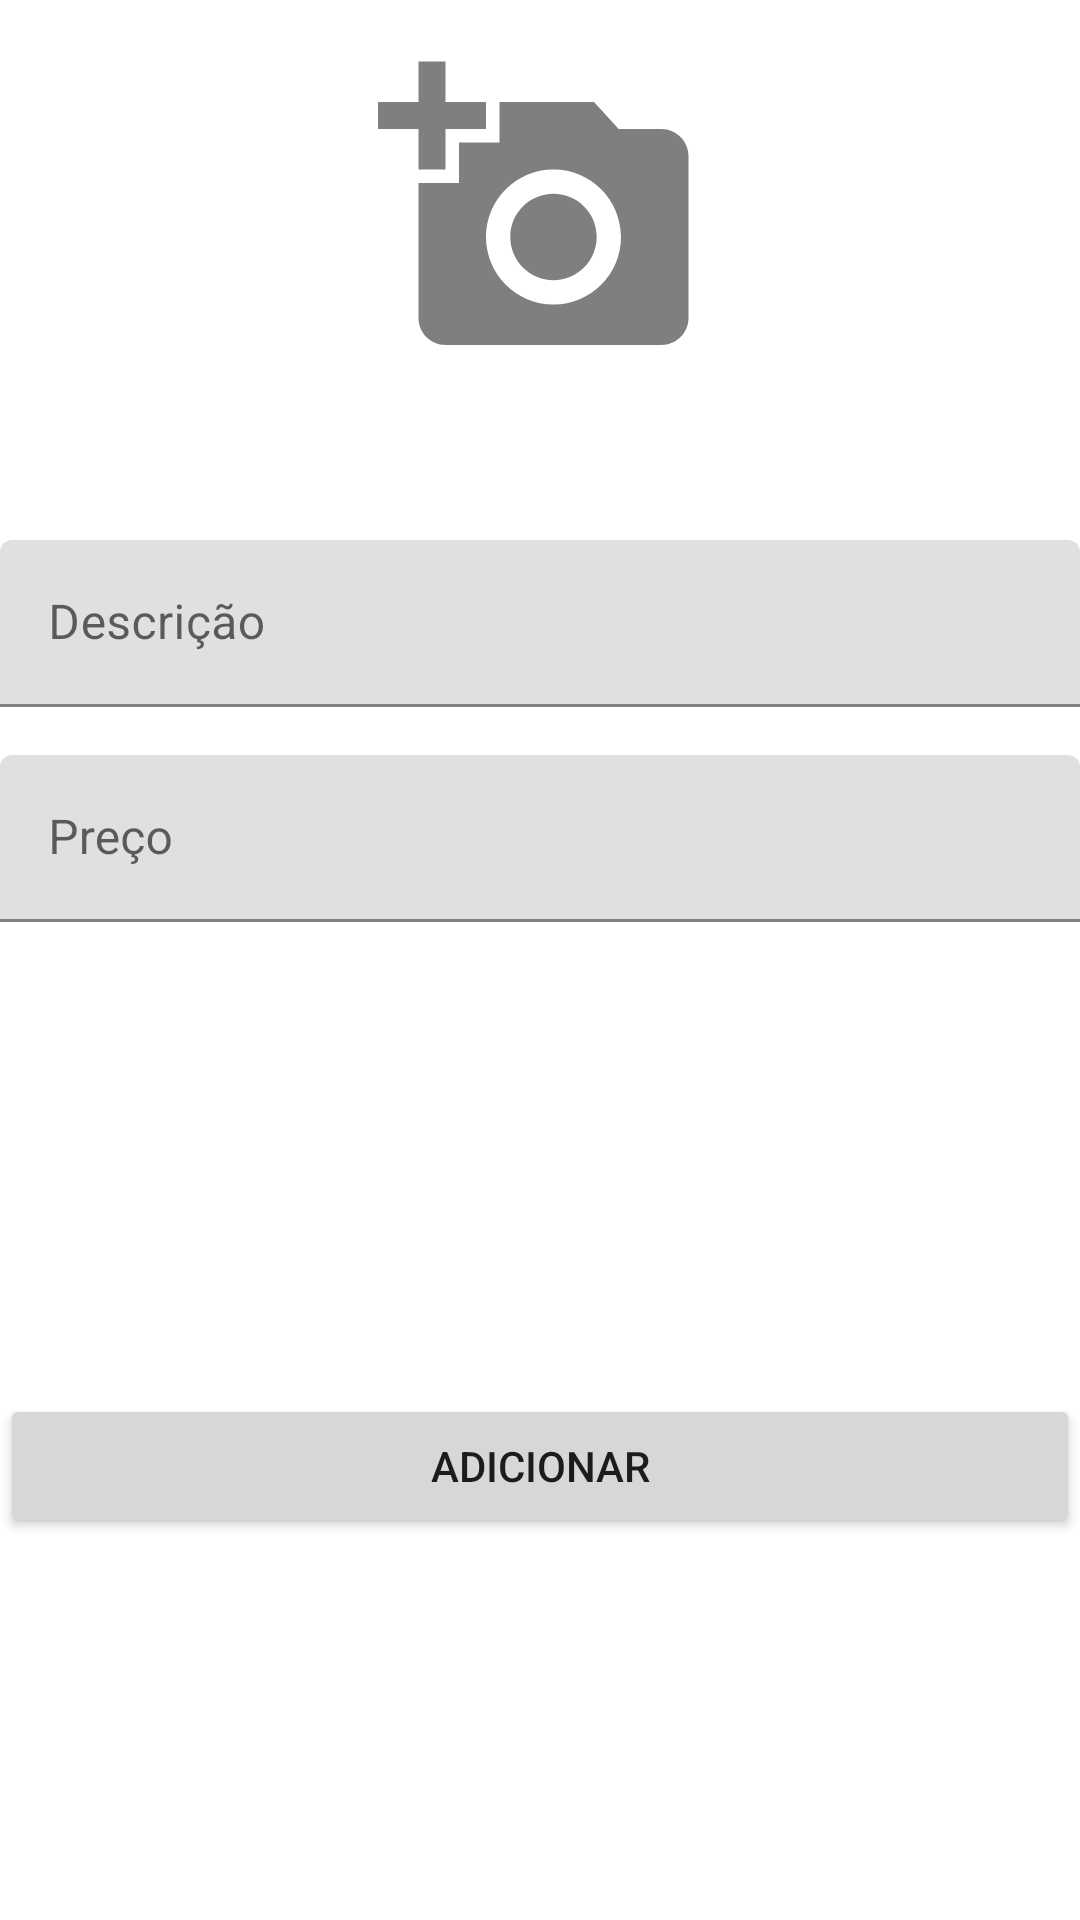

Named icons in this screenshot (1080×1920) and their centers, (x=x, y=y):
add photo: (x=533, y=203)
